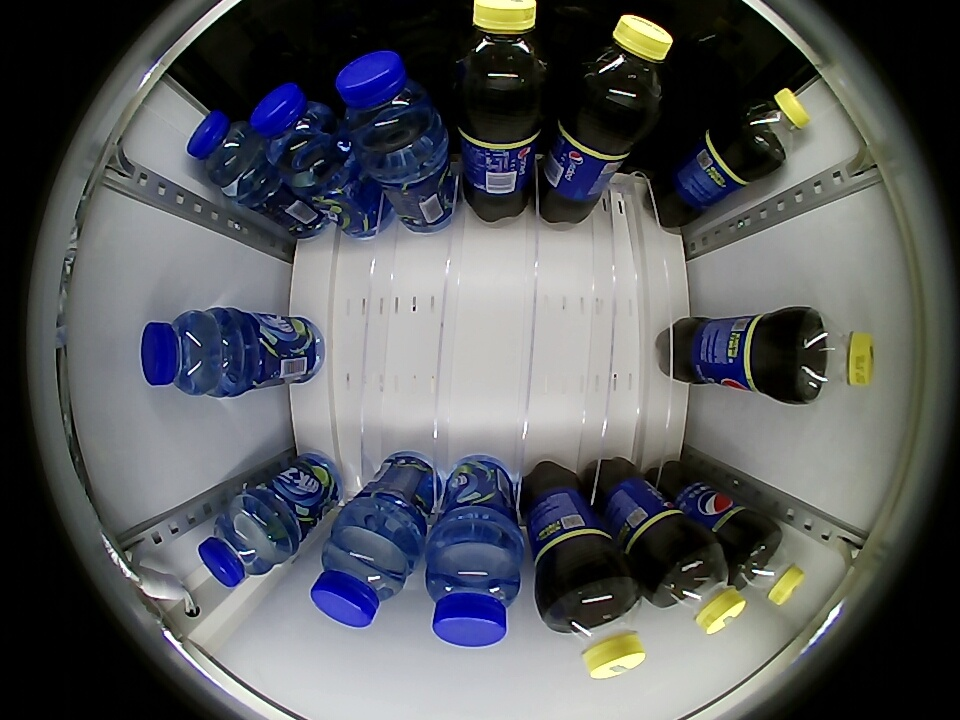baishikele: (544, 574, 646, 680), (574, 14, 674, 121), (451, 0, 552, 100), (651, 541, 747, 635), (791, 310, 875, 401), (736, 87, 811, 164), (733, 527, 805, 606)
maidong: (334, 49, 441, 163), (309, 518, 415, 629), (425, 539, 522, 648), (249, 83, 342, 182), (197, 499, 288, 588), (141, 309, 234, 396), (186, 110, 266, 192)
